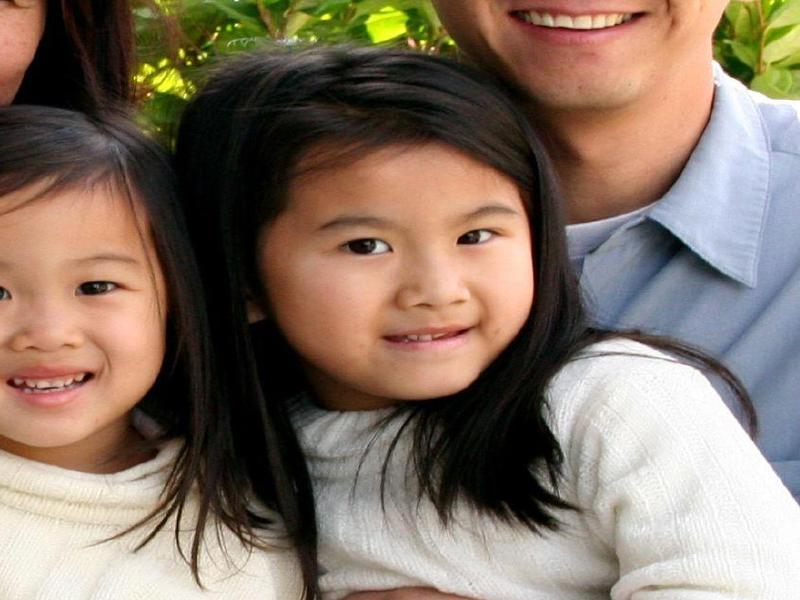person: (185, 59, 799, 600), (423, 1, 800, 488), (5, 97, 303, 600)
